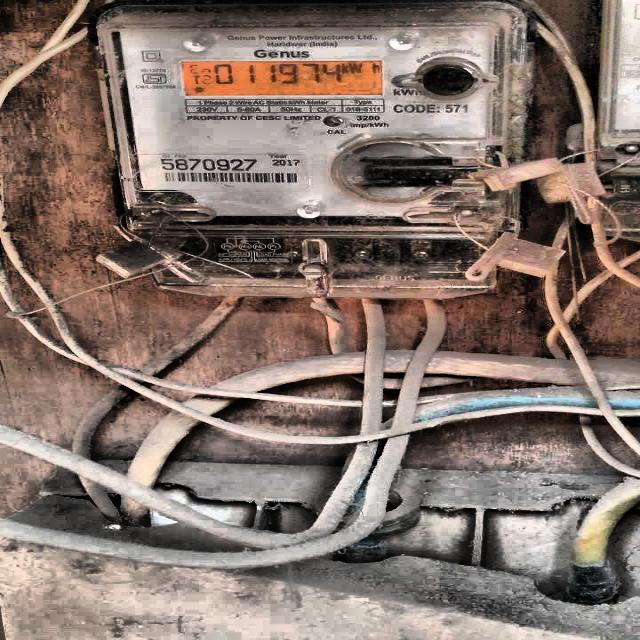Digital: (89, 0, 530, 283)
Reading: (213, 64, 341, 86)
Serial No.: (158, 157, 260, 172)
